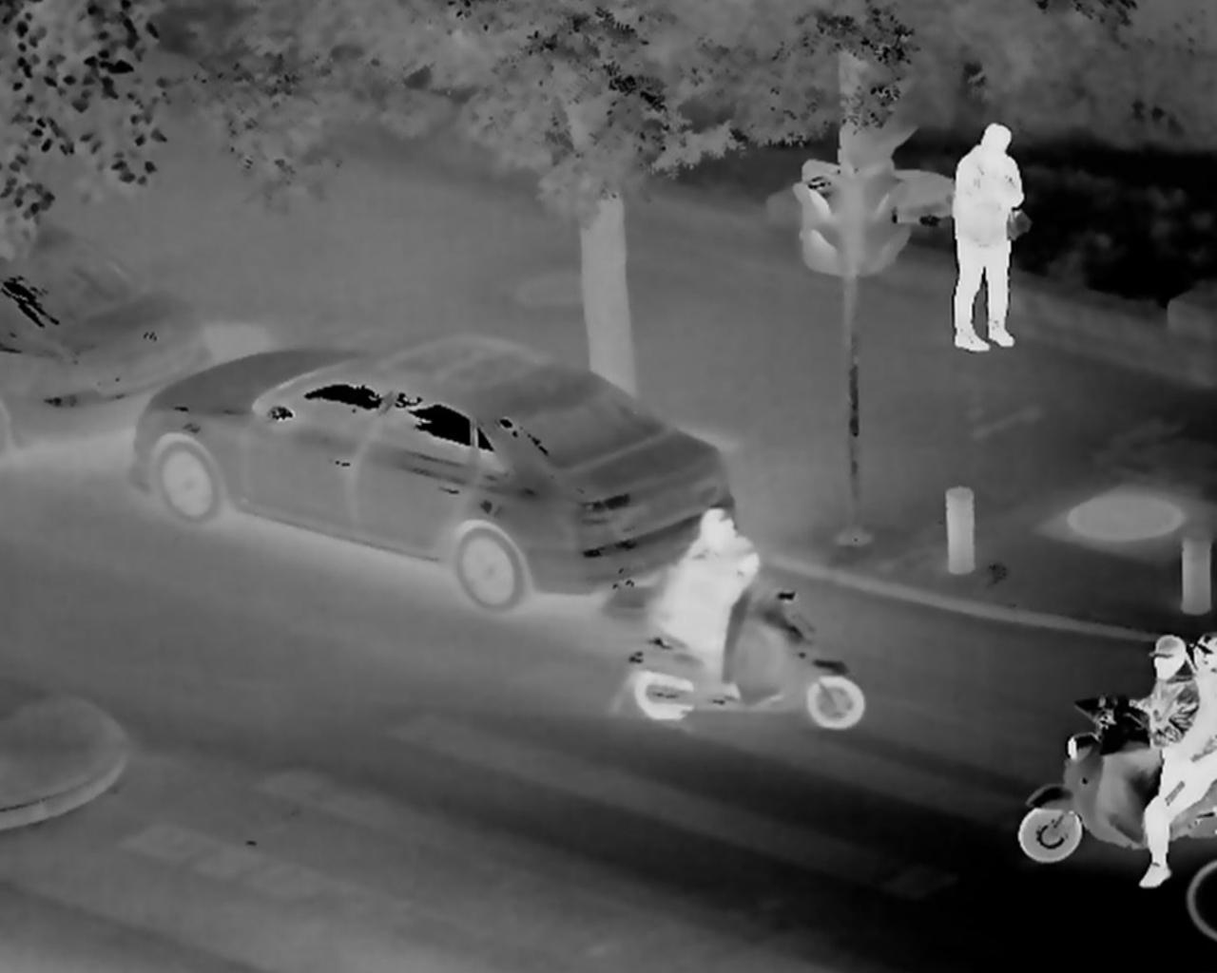person: (637, 503, 782, 726), (1115, 629, 1217, 898), (941, 114, 1035, 352)
